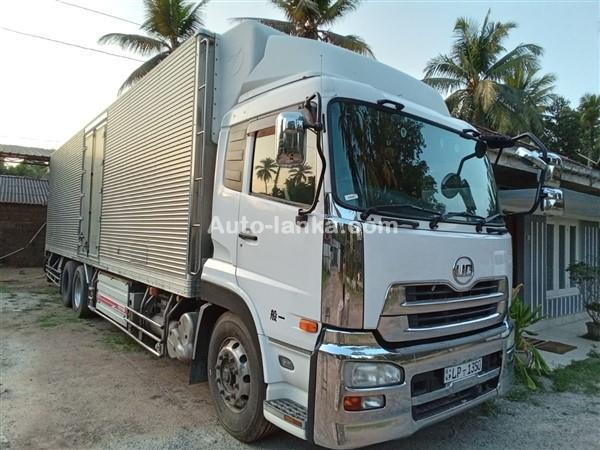truck: (43, 21, 564, 450)
